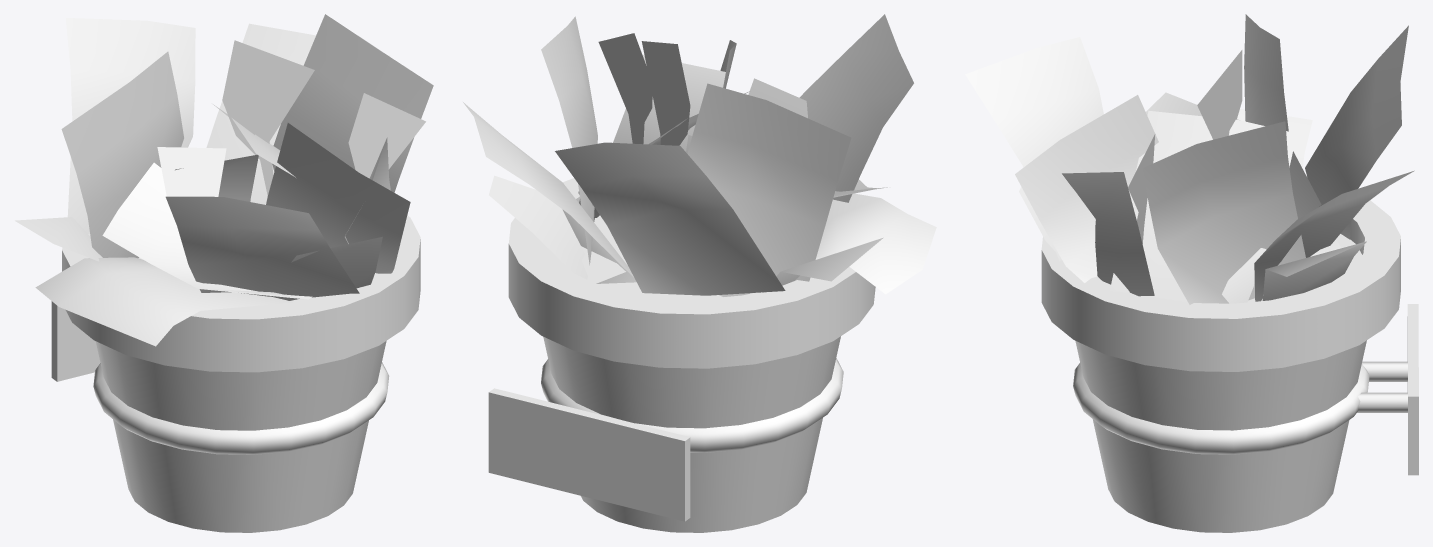
The model's file is Wall Plant 1.glb.
3 renders of one model, left to right at view 1: azimuth 30°, elevation 25°; view 2: azimuth 150°, elevation 25°; view 3: azimuth 270°, elevation 25°, orthographic. The views are drawn at different scales.
Visible parts, largest first — view 1: Wall Plant 1; view 2: Wall Plant 1; view 3: Wall Plant 1.
Part boxes in pixels (x1=…): Wall Plant 1: x1=15, y1=14, x2=433, y2=532; Wall Plant 1: x1=463, y1=14, x2=936, y2=532; Wall Plant 1: x1=965, y1=14, x2=1418, y2=532.
Size of the model in its own units: 0.3467 by 0.3701 by 0.3479.
Materials: 2 (1 with a texture image).
